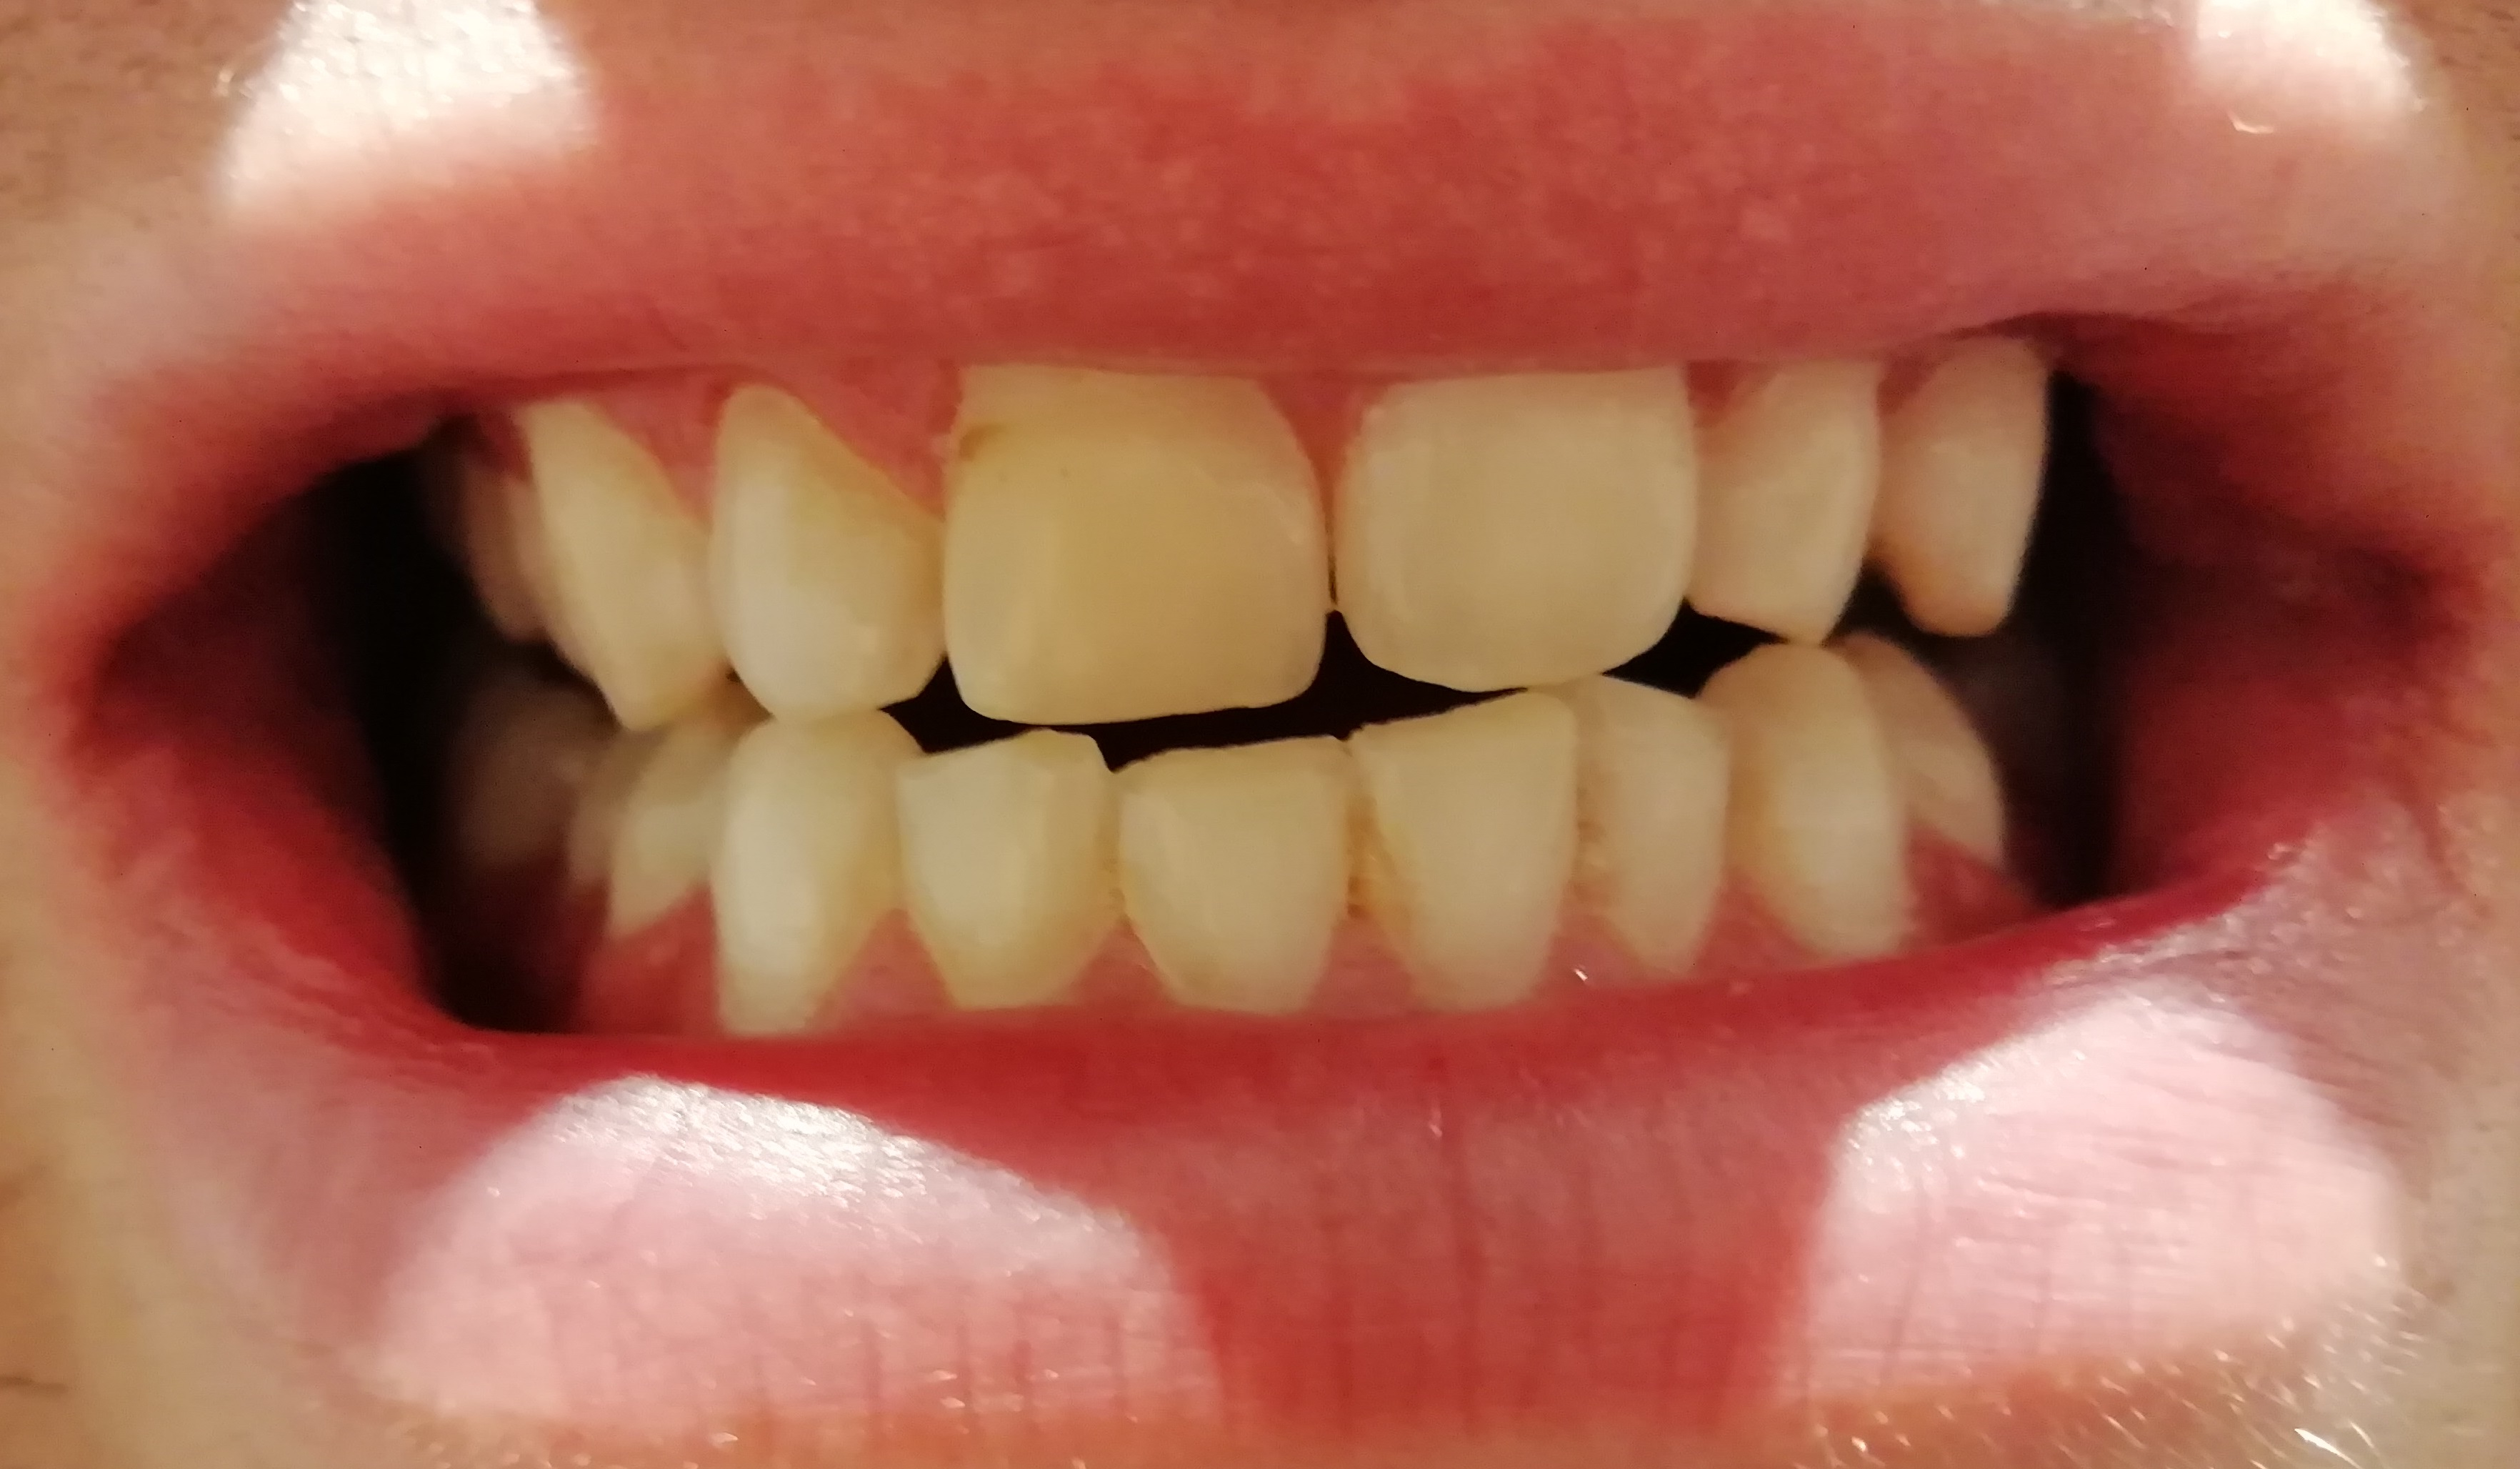boca: (412, 367, 2071, 1007)
